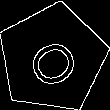O_NE: (20, 27, 85, 89)
